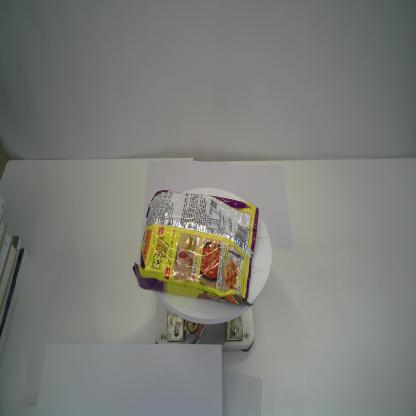Instant Noodles: (131, 187, 261, 308)
